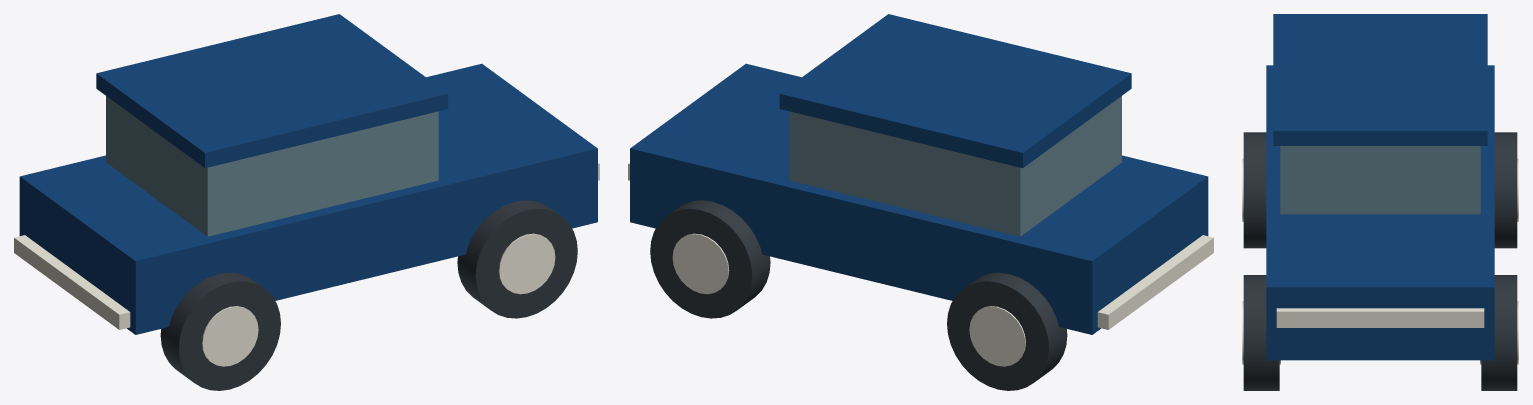
3 views of the same model, side by side, from view 1: azimuth 30°, elevation 25°; view 2: azimuth 150°, elevation 25°; view 3: azimuth 270°, elevation 25° (orthographic).
Parts seen in each view (by area): view 1: Body, Roof, Cabin, Wheel front left, Wheel rear left, Wheel hub (×2), Rear bumper; view 2: Body, Roof, Cabin, Wheel front right, Wheel rear right, Wheel hub (×2), Rear bumper; view 3: Body, Roof, Cabin, Front light, Wheel front right, Wheel front left, Wheel rear right, Wheel rear left.
Boxes of the visible parts, x1,y1,x2,y2 form: Body: [19, 63, 597, 334]; Roof: [96, 14, 448, 168]; Cabin: [106, 96, 438, 236]; Wheel front left: [457, 200, 577, 318]; Wheel rear left: [160, 272, 280, 390]; Wheel hub (×2): [202, 233, 555, 366]; Rear bumper: [14, 235, 130, 329]; Body: [630, 63, 1208, 334]; Roof: [779, 14, 1131, 168]; Cabin: [789, 96, 1121, 236]; Wheel front right: [650, 200, 770, 318]; Wheel rear right: [947, 272, 1067, 390]; Wheel hub (×2): [672, 233, 1025, 366]; Rear bumper: [1097, 235, 1213, 329]; Body: [1266, 65, 1494, 360]; Roof: [1273, 14, 1487, 145]; Cabin: [1280, 146, 1480, 214]; Front light: [1276, 308, 1484, 327]; Wheel front right: [1481, 275, 1517, 390]; Wheel front left: [1243, 275, 1279, 390]; Wheel rear right: [1494, 132, 1517, 248]; Wheel rear left: [1243, 132, 1266, 248].
Size of the model in its own units: 3.95 by 1.79 by 2.
Materials: 4 (1 with a texture image).
